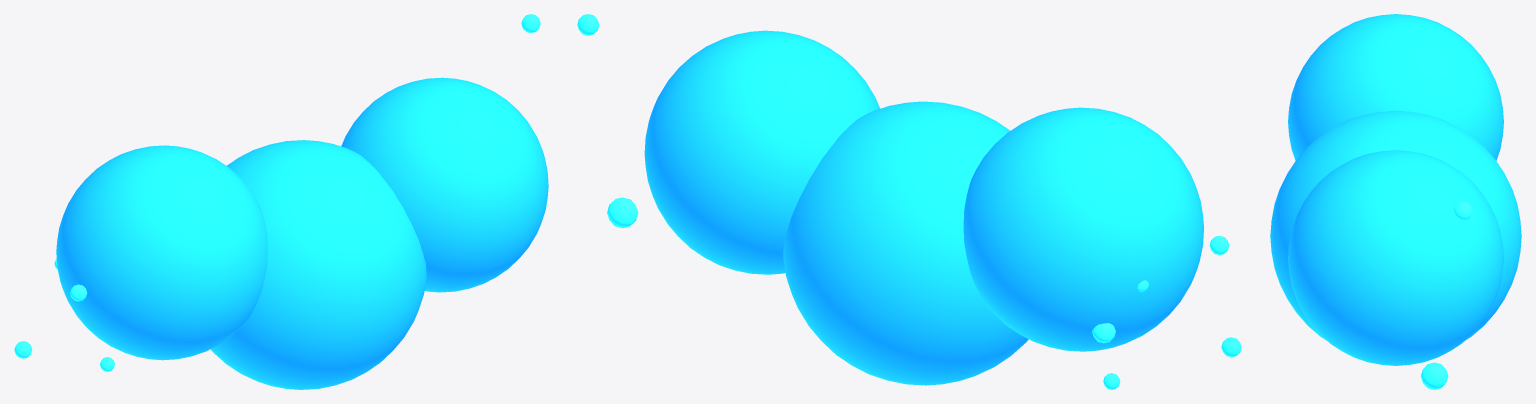
File: ozone.glb
The picture shows the model from 3 angles, left to right: view 1: azimuth 30°, elevation 25°; view 2: azimuth 150°, elevation 25°; view 3: azimuth 270°, elevation 25°; orthographic projection. The views are drawn at different scales.
Parts seen in each view (by area): view 1: Oxygen_Center, Oxygen_Left, Oxygen_Right; view 2: Oxygen_Center, Oxygen_Left, Oxygen_Right, Spark_13; view 3: Oxygen_Right, Oxygen_Left, Oxygen_Center, Spark_13, Spark_8.
Boxes of the visible parts, x1,y1,x2,y2 form: Oxygen_Center: (210, 140, 426, 389); Oxygen_Left: (56, 145, 267, 360); Oxygen_Right: (341, 77, 548, 292); Oxygen_Center: (783, 101, 1028, 385); Oxygen_Left: (963, 107, 1203, 351); Oxygen_Right: (644, 30, 879, 274); Spark_13: (607, 197, 638, 227); Oxygen_Right: (1288, 150, 1503, 365); Oxygen_Left: (1288, 14, 1503, 160); Oxygen_Center: (1270, 110, 1521, 340); Spark_13: (1420, 362, 1448, 389); Spark_8: (1453, 201, 1472, 220).
Bounding box in the file's own units: 3.27 × 1.55 × 1.28.
